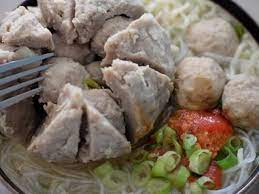bakso: (7, 3, 259, 160)
